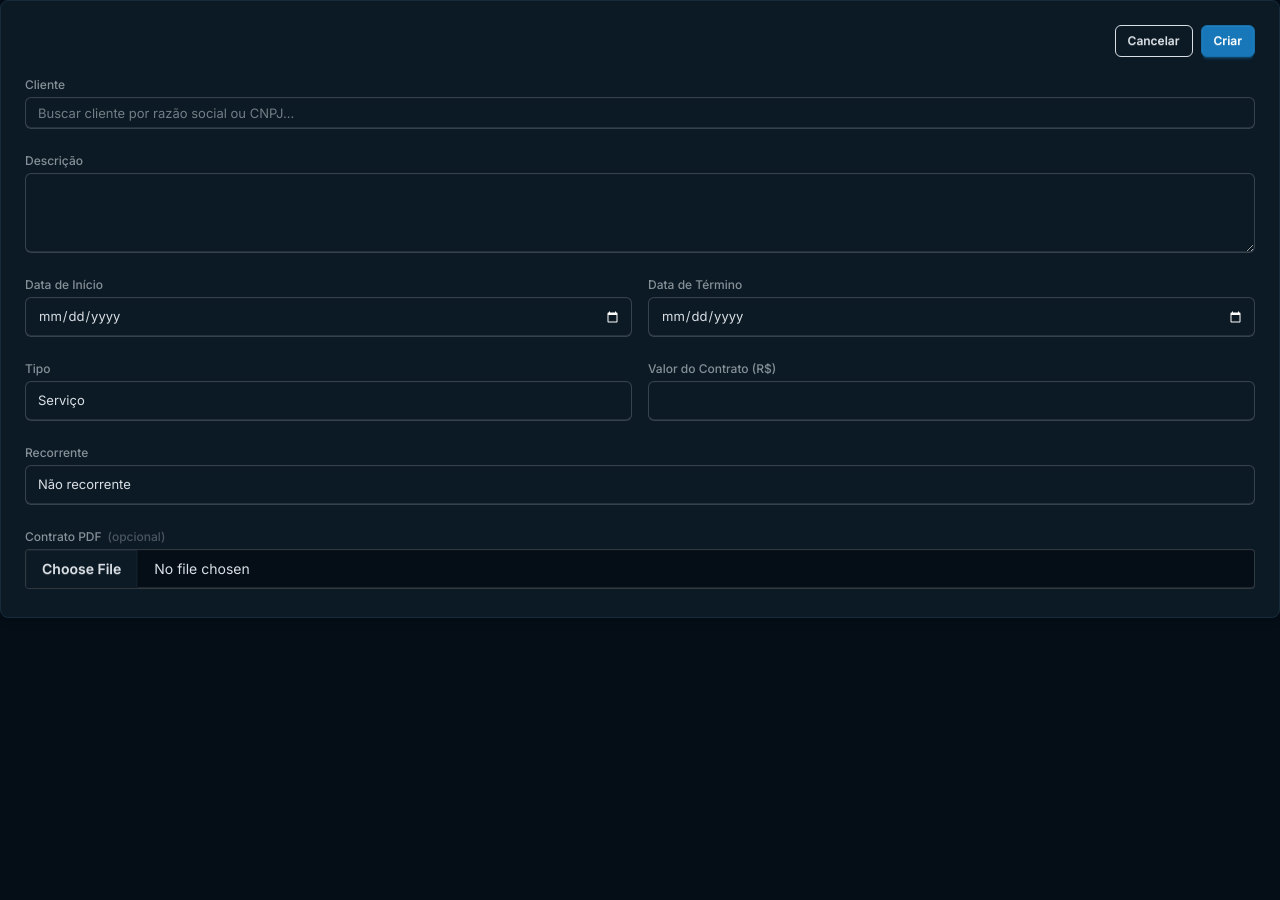
Test: shows validation error when submitting empty required fields
The width and height of the screenshot is (1280, 900).
What coordinates should you click on to do the following:
click the button "Criar"
I would click on:
 (1228, 41)
Its box is [1200,25,1255,57].
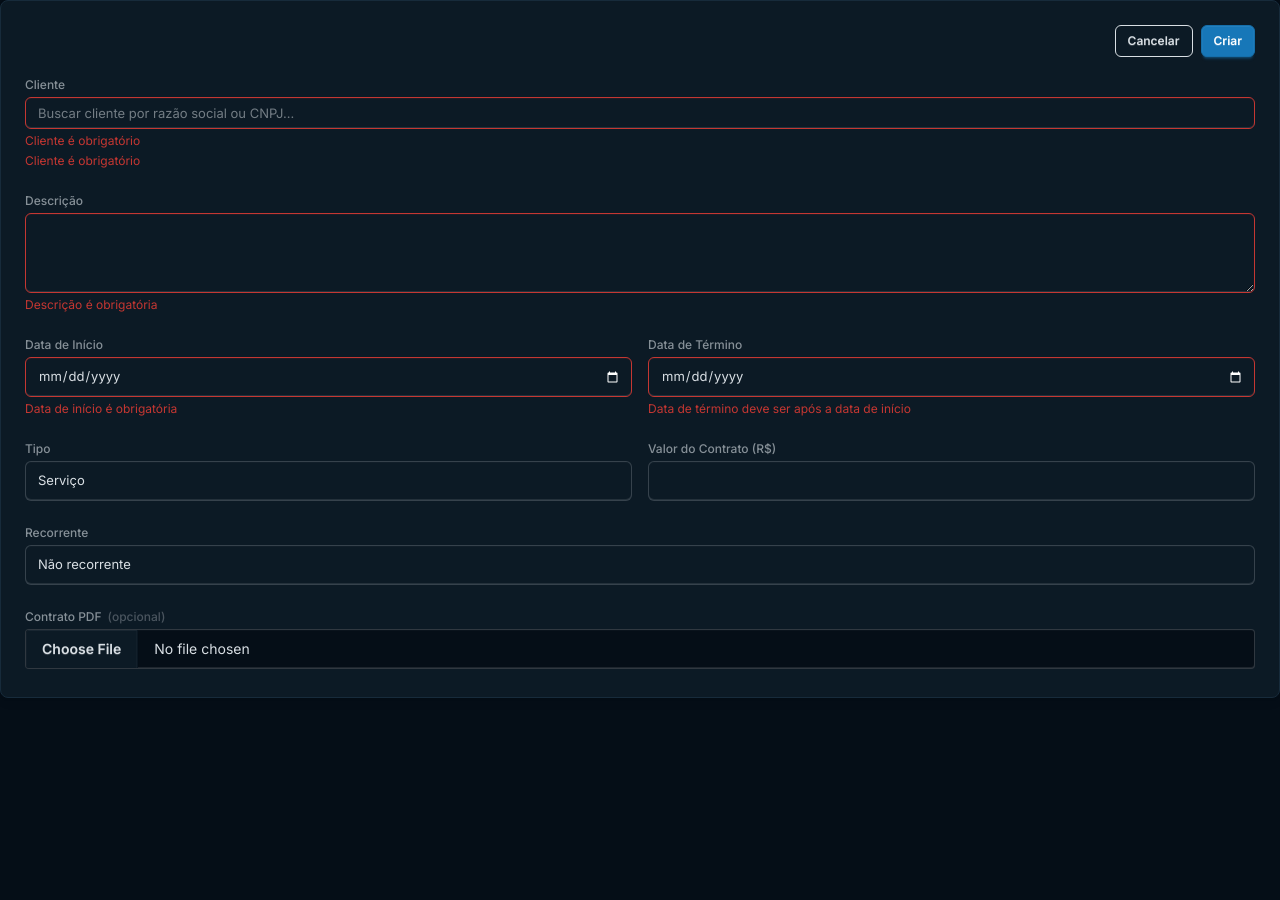
Expected: the text with test id "error-clientId" is shown, [25,153,140,168]
